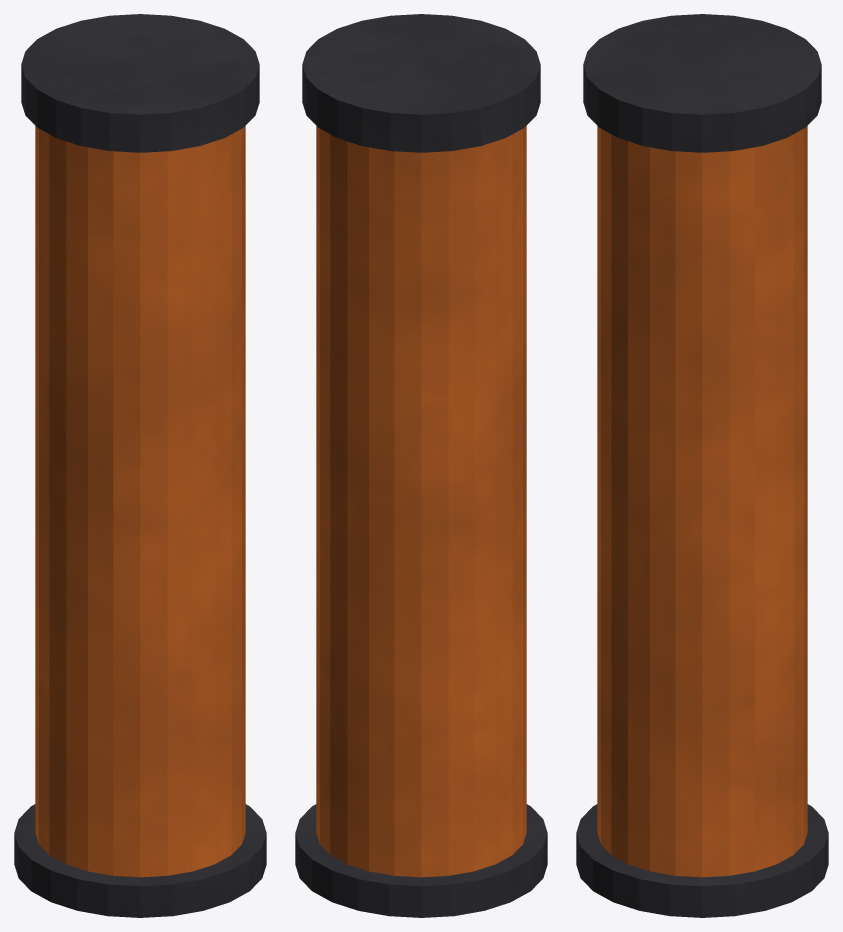
File: info_pillar.glb
3 views of the same model, side by side, from view 1: azimuth 30°, elevation 25°; view 2: azimuth 150°, elevation 25°; view 3: azimuth 270°, elevation 25° (orthographic).
Parts seen in each view (by area): view 1: Cylinder, Cylinder.001; view 2: Cylinder, Cylinder.001; view 3: Cylinder, Cylinder.001.
Part boxes in pixels (<box>): Cylinder: <box>35,126,245,877</box>; Cylinder.001: <box>14,14,266,917</box>; Cylinder: <box>316,126,526,877</box>; Cylinder.001: <box>295,14,547,917</box>; Cylinder: <box>597,126,807,877</box>; Cylinder.001: <box>576,14,828,917</box>.
Size of the model in its own units: 0.72 by 2.52 by 0.72.
Materials: 2 (2 with a texture image).
